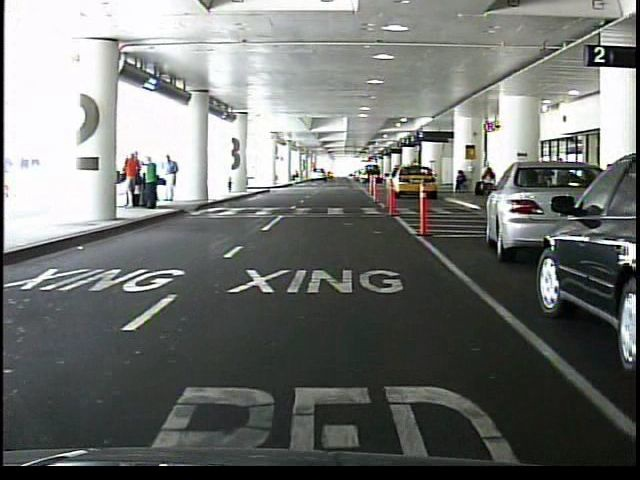person: (143, 155, 161, 210), (164, 154, 180, 204), (126, 150, 140, 207), (481, 162, 494, 196), (452, 171, 467, 196)
